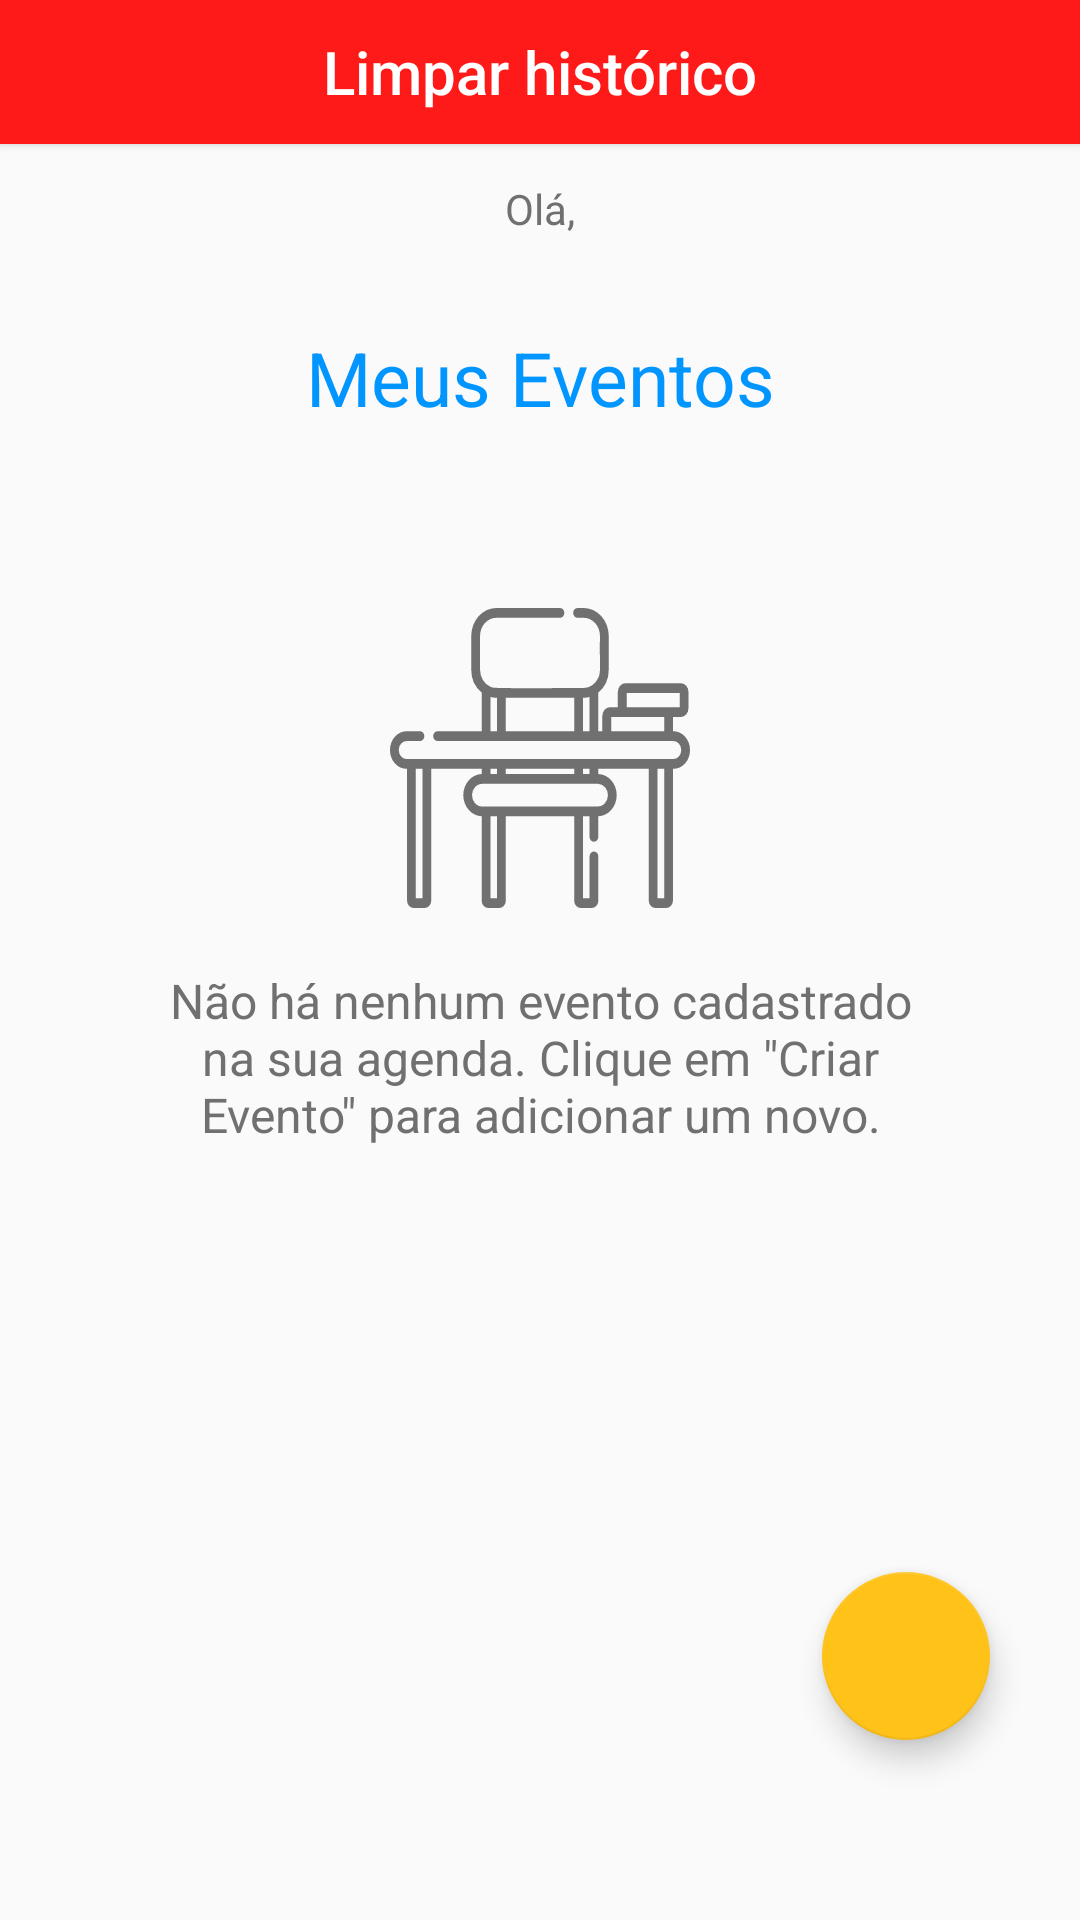

Point at icon controls on the screen. Image size 1080px x 1920px, points as point (x, y).
desk: point (540, 758)
